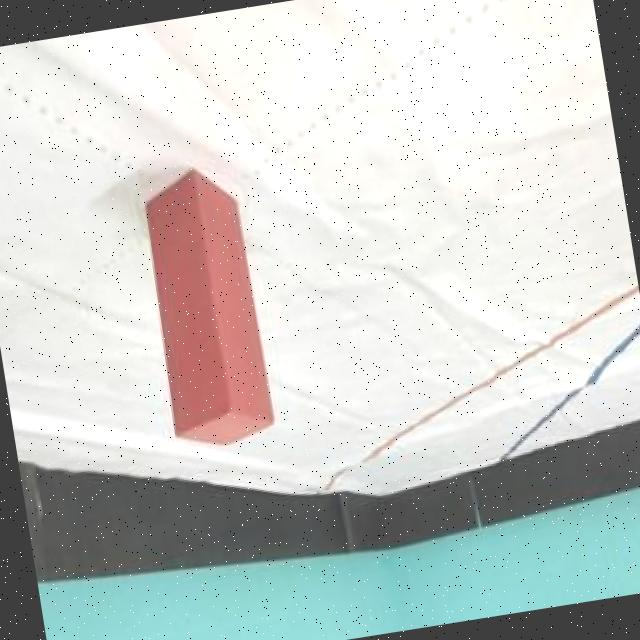redbox: (135, 157, 277, 456)
